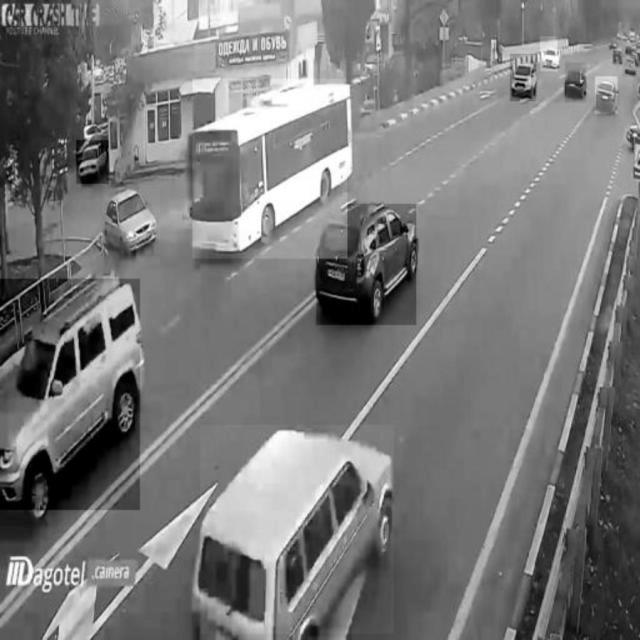vehicle: (200, 425, 394, 633), (0, 279, 139, 510), (192, 79, 348, 259), (316, 204, 416, 325), (102, 185, 160, 253), (77, 140, 109, 184), (511, 54, 537, 101), (595, 77, 619, 114), (565, 63, 585, 103), (540, 37, 558, 72), (623, 48, 638, 78)
